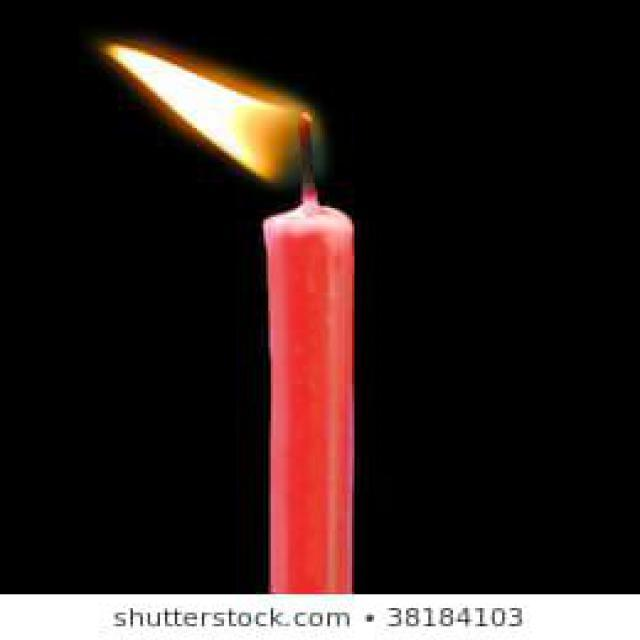Fire: (102, 40, 326, 186)
